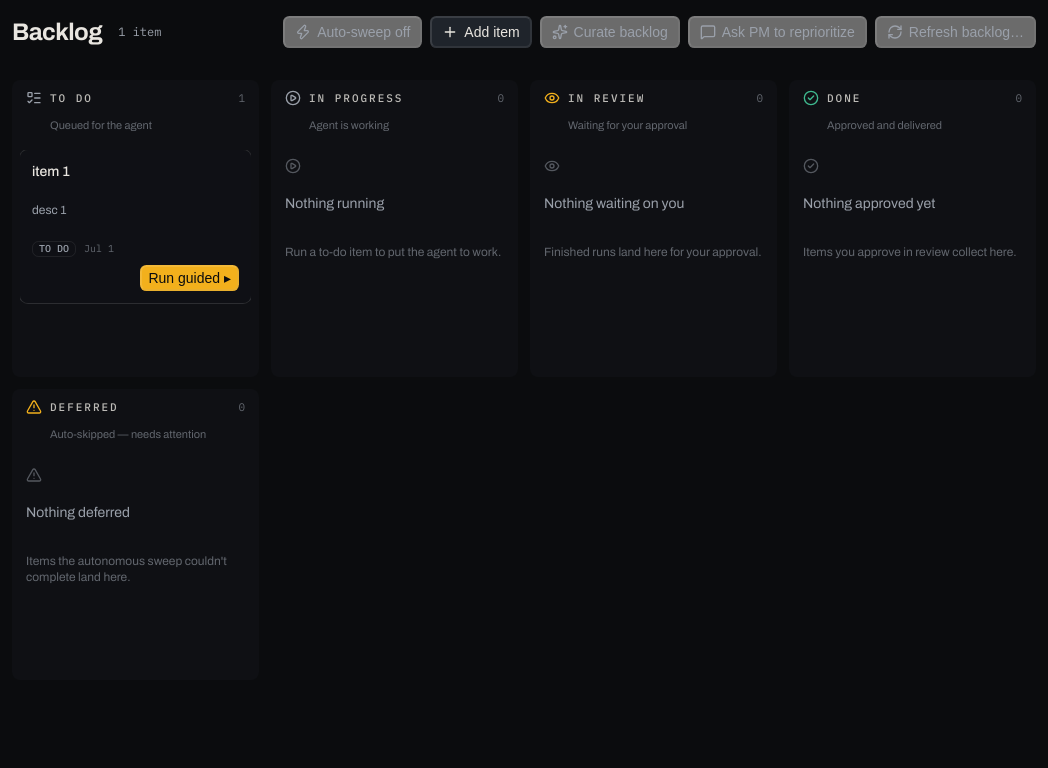
Test: Backlog board › surfaces a server 409 in the toolbar error line
Step 1. Click the button "Run guided ▸" → (190, 278), box [140,265,239,291]
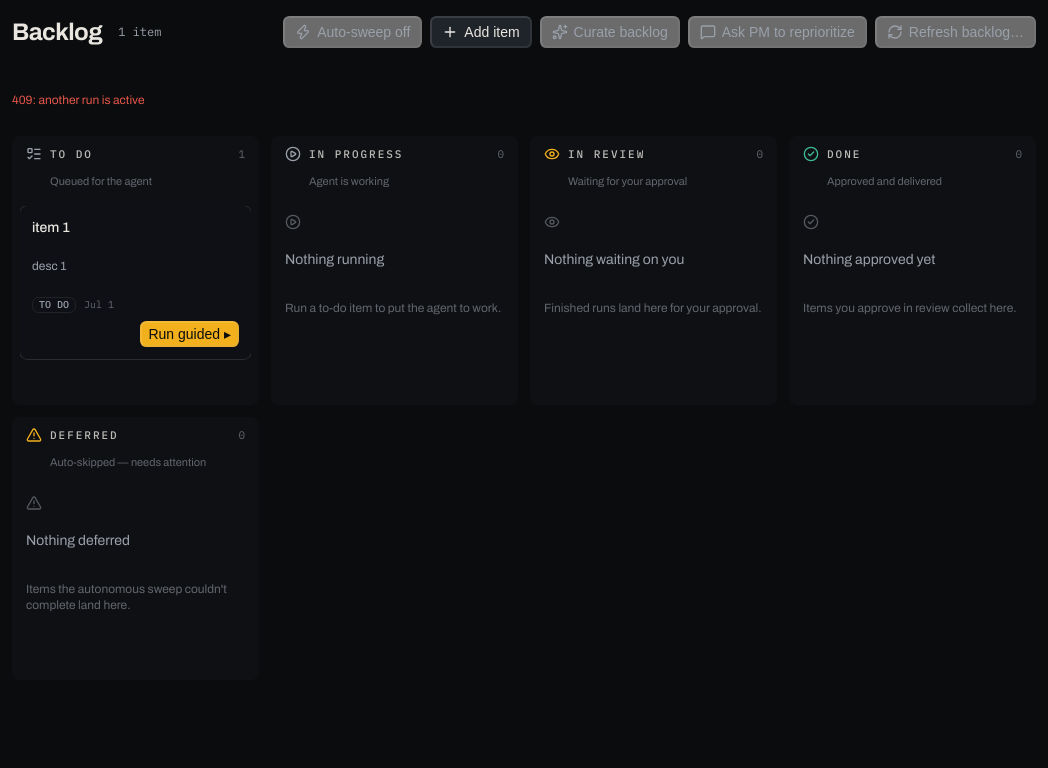
Now the message shows "409", box [12,93,145,107]
